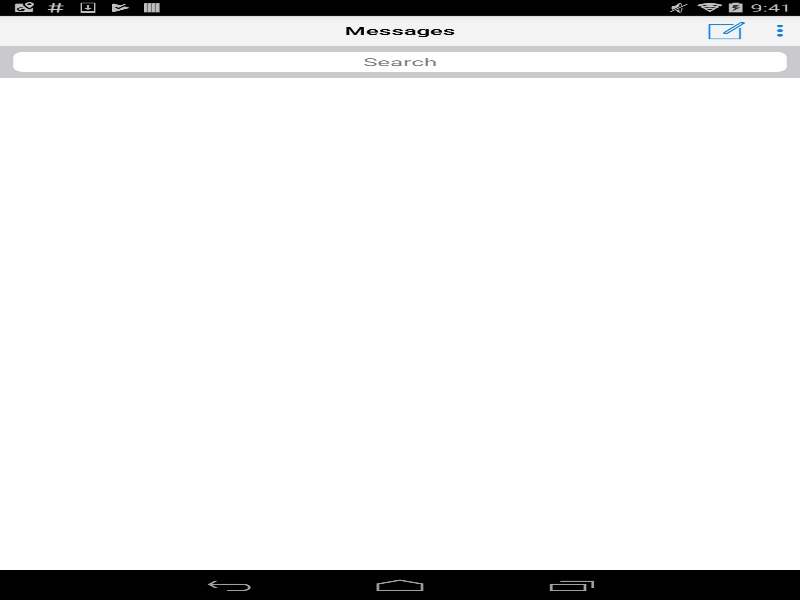Input: (13, 51, 786, 71)
